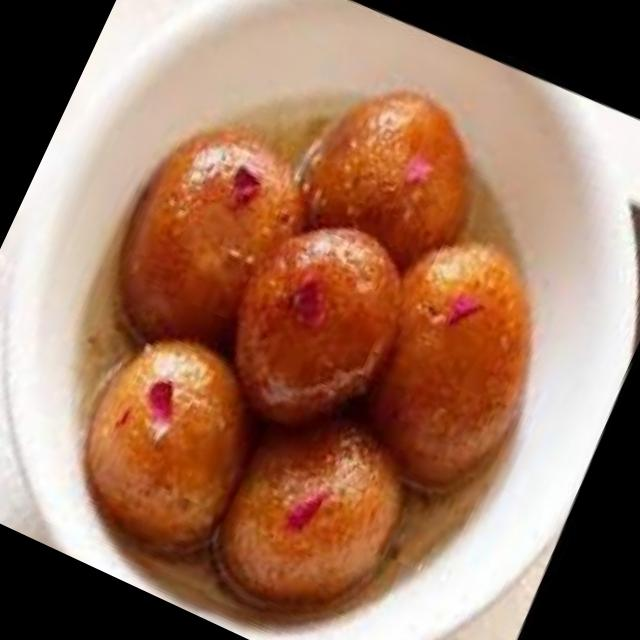gulab_jamun: (330, 218, 582, 512), (86, 100, 340, 383), (51, 312, 290, 578), (200, 197, 440, 458), (193, 390, 433, 640), (277, 57, 519, 300)
